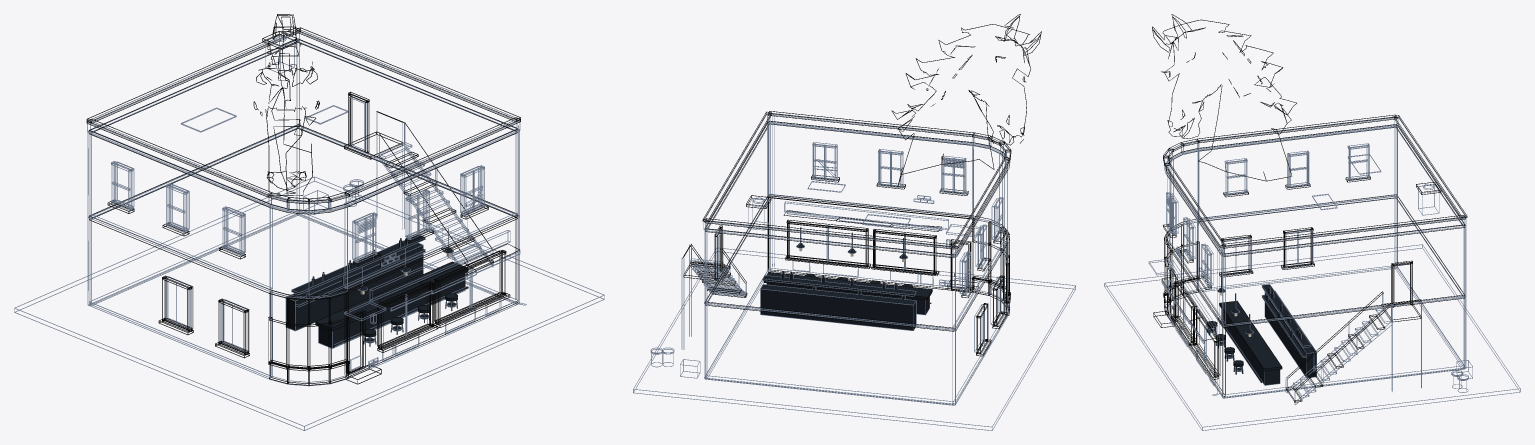
The model's file is 老街酒馆.fbx.
3 renders of one model, left to right at view 1: azimuth 30°, elevation 25°; view 2: azimuth 150°, elevation 25°; view 3: azimuth 270°, elevation 25°, orthographic. The views are drawn at different scales.
Parts seen in each view (by area): view 1: 描线_focus_老街酒馆_暗, 描线_focus_老街酒馆, 背柜, 木吧台厚台面, 磨旧吧台柜, 酒瓶架.001; view 2: 描线_focus_老街酒馆_暗, 描线_focus_老街酒馆, 背柜, 木吧台厚台面, 酒瓶架.001, 磨旧吧台柜; view 3: 描线_focus_老街酒馆_暗, 描线_focus_老街酒馆, 木吧台厚台面, 背柜, 磨旧吧台柜, 酒瓶架.001.
Part boxes in pixels (<box>): 描线_focus_老街酒馆_暗: <box>14,29,604,430</box>; 描线_focus_老街酒馆: <box>86,14,520,385</box>; 背柜: <box>286,243,422,330</box>; 木吧台厚台面: <box>315,262,468,330</box>; 磨旧吧台柜: <box>318,273,465,347</box>; 酒瓶架.001: <box>291,235,425,294</box>; 描线_focus_老街酒馆_暗: <box>633,112,1075,430</box>; 描线_focus_老街酒馆: <box>682,14,1041,356</box>; 背柜: <box>760,284,915,330</box>; 木吧台厚台面: <box>764,272,932,299</box>; 酒瓶架.001: <box>762,275,916,296</box>; 磨旧吧台柜: <box>767,283,929,314</box>; 描线_focus_老街酒馆_暗: <box>1104,116,1520,430</box>; 描线_focus_老街酒馆: <box>1152,14,1467,402</box>; 木吧台厚台面: <box>1219,301,1281,370</box>; 背柜: <box>1265,291,1316,377</box>; 磨旧吧台柜: <box>1221,309,1279,385</box>; 酒瓶架.001: <box>1262,284,1310,347</box>.
Size of the model in its own units: 2893 by 2094 by 2783.
